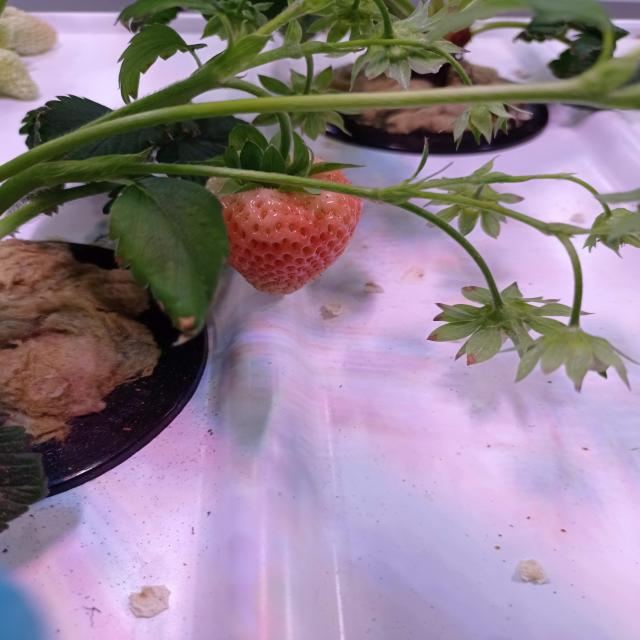Healthy Fruit: (219, 187, 362, 295)
